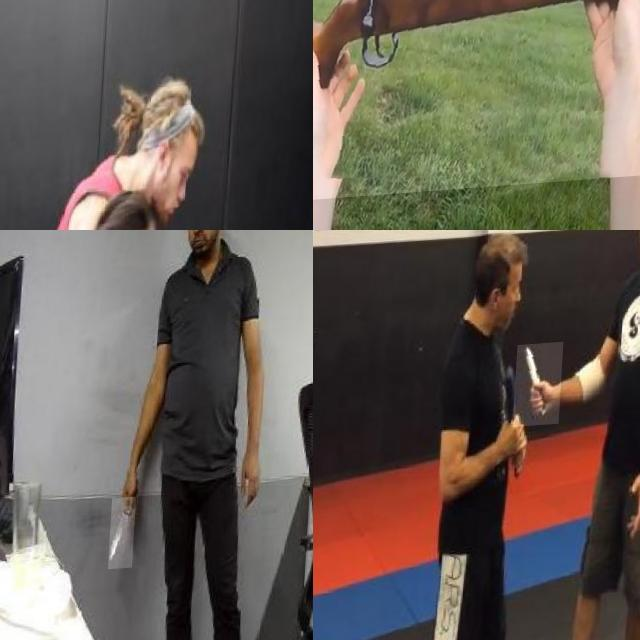-: (516, 348, 566, 432), (115, 499, 142, 572)
gun-knife-thesis - v11 Yolov5 augmented: (313, 0, 640, 209)
